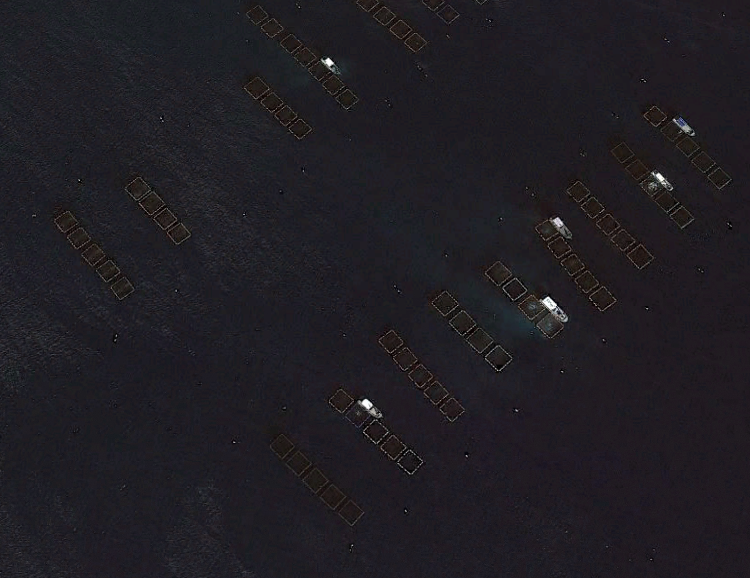ship: (540, 292, 576, 331), (314, 47, 346, 77), (356, 394, 385, 426), (551, 207, 577, 238), (649, 165, 675, 193), (672, 110, 697, 138)
square: (123, 172, 157, 209), (482, 257, 518, 290), (392, 22, 429, 54), (406, 359, 438, 395), (334, 493, 366, 528), (327, 388, 359, 422), (622, 151, 654, 184), (243, 76, 277, 107), (664, 198, 695, 232), (561, 176, 595, 207), (445, 304, 475, 338), (638, 98, 670, 129), (638, 172, 669, 204), (481, 342, 513, 373), (376, 328, 409, 358), (420, 376, 450, 409), (533, 310, 564, 341), (375, 432, 406, 463), (373, 2, 403, 34), (653, 184, 683, 216), (588, 281, 618, 313), (390, 341, 420, 373), (284, 449, 314, 481), (439, 394, 468, 427), (704, 162, 734, 193), (519, 293, 550, 323), (270, 434, 301, 464), (314, 479, 345, 509), (282, 111, 314, 140), (500, 273, 529, 305), (432, 288, 461, 320), (659, 117, 689, 147), (596, 209, 626, 239), (465, 326, 494, 357), (317, 72, 349, 100), (56, 207, 82, 241), (161, 215, 190, 245), (675, 134, 705, 163), (577, 192, 607, 221), (546, 229, 575, 259), (140, 188, 167, 220), (576, 265, 603, 297), (396, 446, 423, 478), (609, 224, 638, 253), (626, 239, 653, 270), (66, 222, 92, 254), (689, 146, 717, 175), (536, 214, 565, 242), (344, 402, 372, 431), (361, 419, 389, 448), (560, 247, 586, 278), (276, 31, 304, 59), (92, 255, 119, 284), (307, 59, 336, 85), (384, 13, 413, 39), (107, 273, 133, 301), (269, 98, 295, 126), (300, 466, 326, 494), (261, 89, 288, 115), (612, 138, 638, 165), (82, 239, 107, 267), (150, 202, 174, 231), (296, 48, 324, 72), (258, 16, 283, 41), (335, 87, 361, 111), (244, 4, 271, 27), (432, 2, 458, 25)
